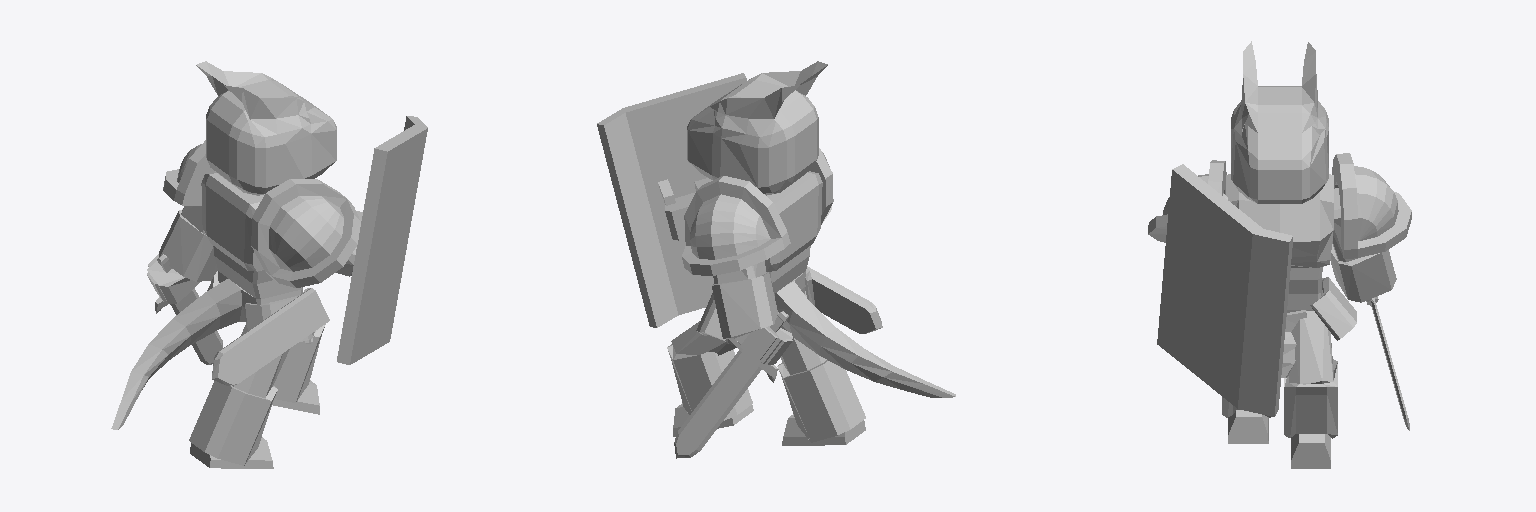
The model's file is Surina.obj.
The picture shows the model from 3 angles: view 1: azimuth 30°, elevation 25°; view 2: azimuth 150°, elevation 25°; view 3: azimuth 270°, elevation 25°; orthographic projection.
Visible parts, largest first — view 1: Cube.006_Cube.007, Cube.005_Cube, Cube.003, Cube_Cube.002; view 2: Cube.006_Cube.007, Cube.005_Cube, Cube_Cube.002, Cube.003; view 3: Cube.006_Cube.007, Cube.005_Cube, Cube_Cube.002.
Boxes of the visible parts, <box> form: Cube.006_Cube.007: <box>111,61,362,468</box>; Cube.005_Cube: <box>337,116,427,364</box>; Cube.003: <box>212,288,329,385</box>; Cube_Cube.002: <box>155,254,222,364</box>; Cube.006_Cube.007: <box>665,61,955,445</box>; Cube.005_Cube: <box>597,73,746,327</box>; Cube_Cube.002: <box>674,311,788,458</box>; Cube.003: <box>807,266,882,333</box>; Cube.006_Cube.007: <box>1148,41,1411,468</box>; Cube.005_Cube: <box>1157,164,1292,416</box>; Cube_Cube.002: <box>1366,296,1409,430</box>.
Bounding box in the file's own units: 8.59 × 9.47 × 5.89.